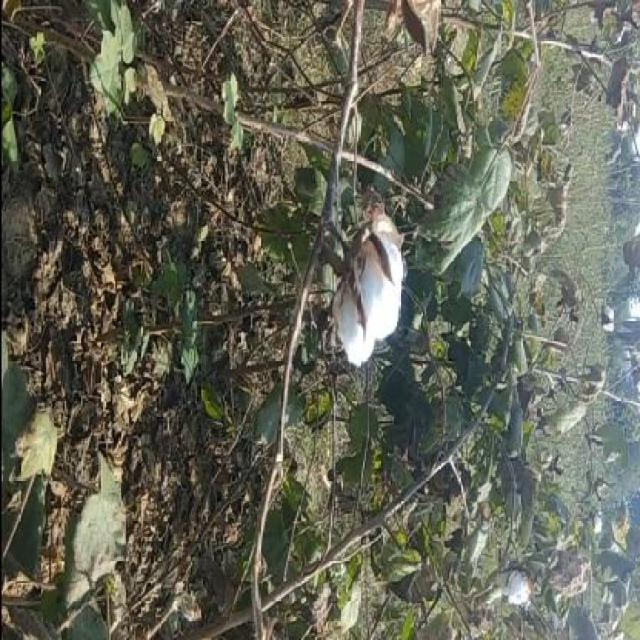cotton_ready: (302, 188, 411, 384)
